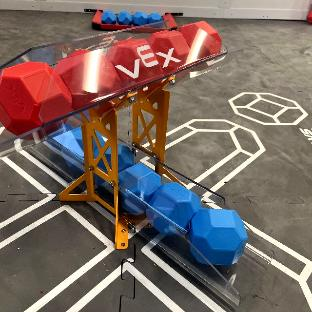V5_BLUE: (189, 208, 247, 265), (148, 183, 201, 235), (119, 163, 159, 212)
V5_RED: (0, 62, 72, 134), (56, 43, 121, 111), (107, 38, 161, 88), (148, 31, 188, 73), (179, 21, 220, 60)
